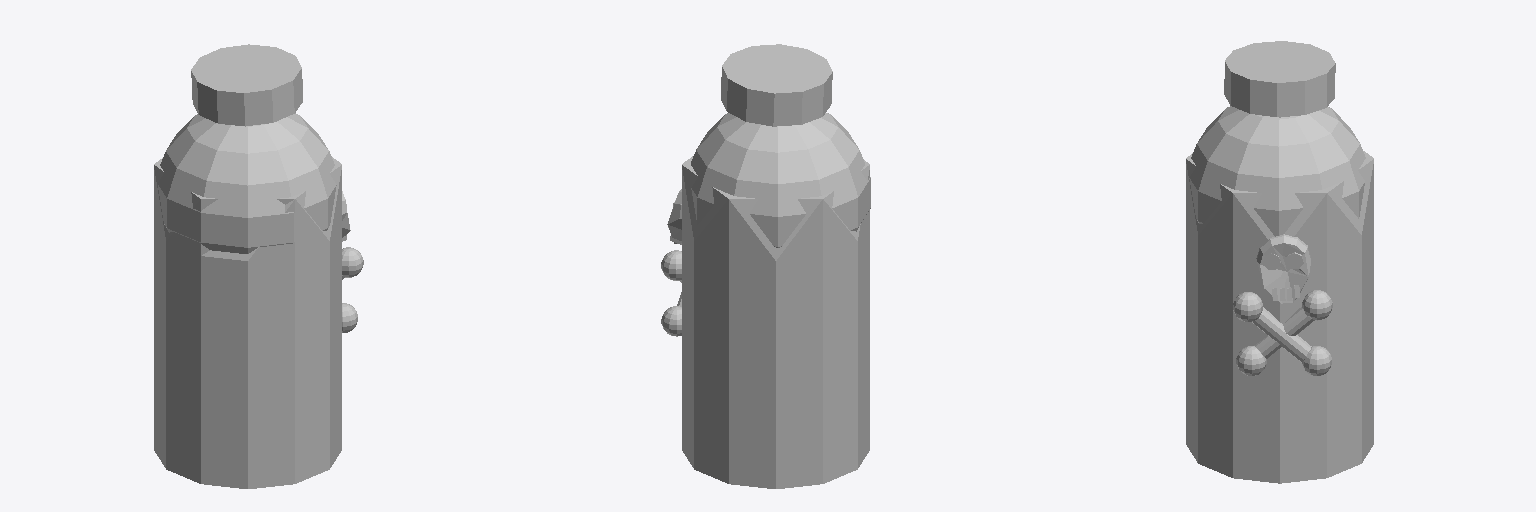
File: poisonbottle.obj
3 views of the same model, side by side, from view 1: azimuth 30°, elevation 25°; view 2: azimuth 150°, elevation 25°; view 3: azimuth 270°, elevation 25° (orthographic).
Visible parts, largest first — view 1: group[number redacted], group[number redacted], group[number redacted], group[number redacted]; view 2: group[number redacted], group[number redacted], group[number redacted], group[number redacted]; view 3: group[number redacted], group[number redacted], group[number redacted], group[number redacted].
Part boxes in pixels (bbox=[...]): group[number redacted]: bbox=[154, 157, 341, 488]; group[number redacted]: bbox=[157, 113, 336, 253]; group[number redacted]: bbox=[191, 44, 302, 126]; group[number redacted]: bbox=[342, 191, 363, 332]; group[number redacted]: bbox=[682, 156, 869, 488]; group[number redacted]: bbox=[691, 113, 870, 247]; group[number redacted]: bbox=[721, 44, 832, 126]; group[number redacted]: bbox=[661, 189, 681, 336]; group[number redacted]: bbox=[1186, 151, 1373, 483]; group[number redacted]: bbox=[1189, 106, 1365, 236]; group[number redacted]: bbox=[1233, 234, 1332, 375]; group[number redacted]: bbox=[1224, 41, 1335, 116].
Size of the model in its own units: 0.5379 by 1.1 by 0.4902.